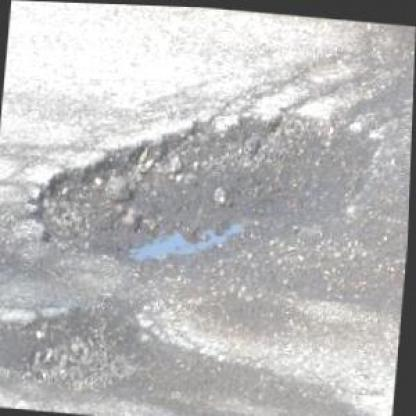pothole: (29, 84, 381, 282), (11, 294, 150, 399)
